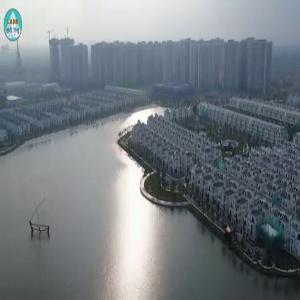drone: (210, 216, 256, 262)
